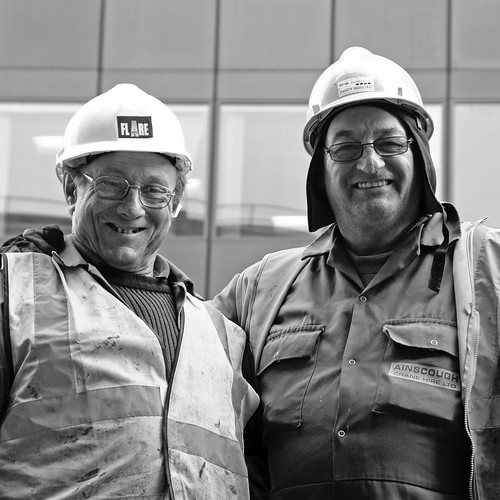person hardhat: (255, 44, 500, 500), (1, 84, 263, 500)
